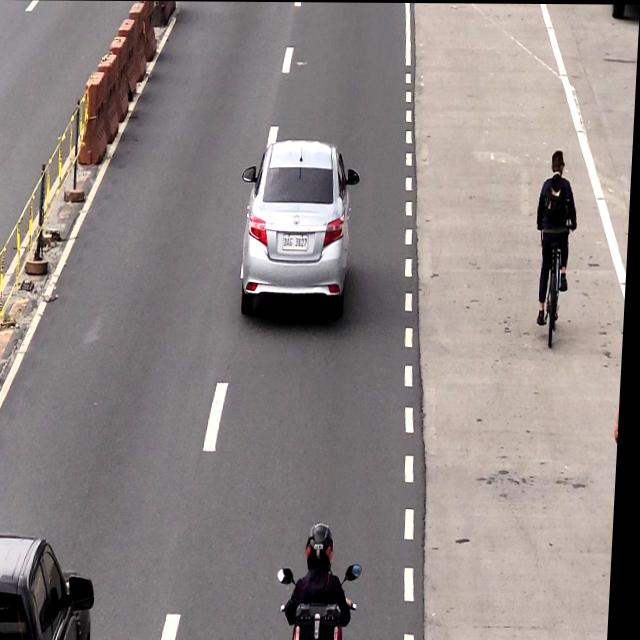Car: (241, 142, 354, 319), (0, 534, 102, 640)
License-Plate: (284, 229, 311, 252)
Motorcycle: (291, 522, 368, 640)
